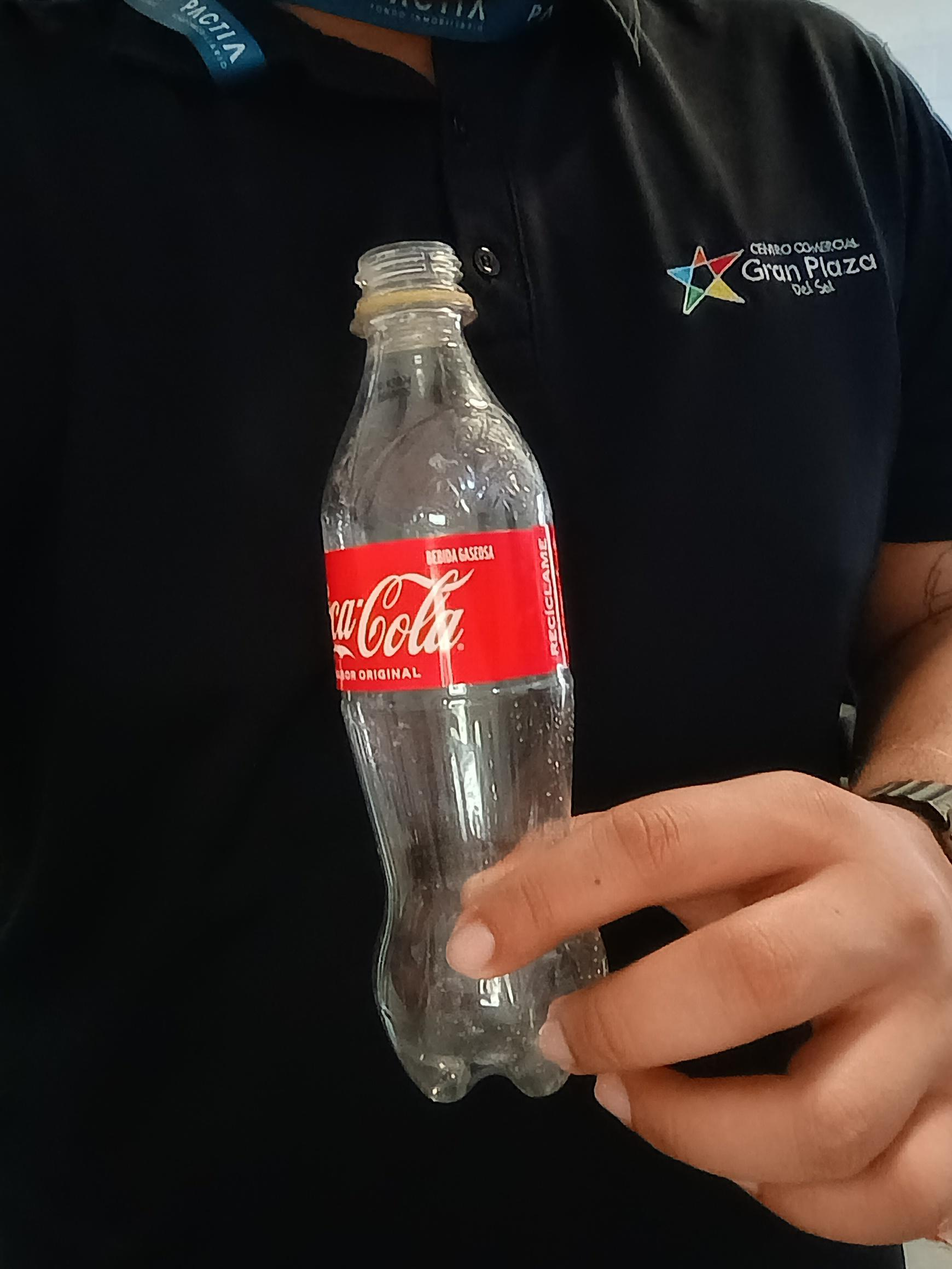Plastico: (320, 241, 611, 1103)
